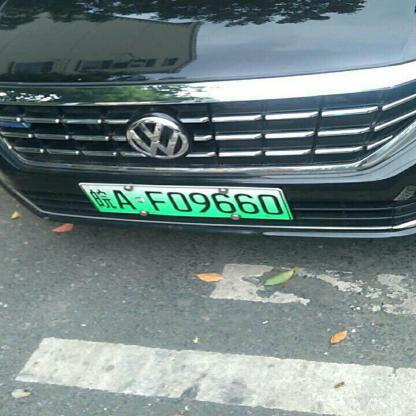lp: (82, 185, 289, 218)
